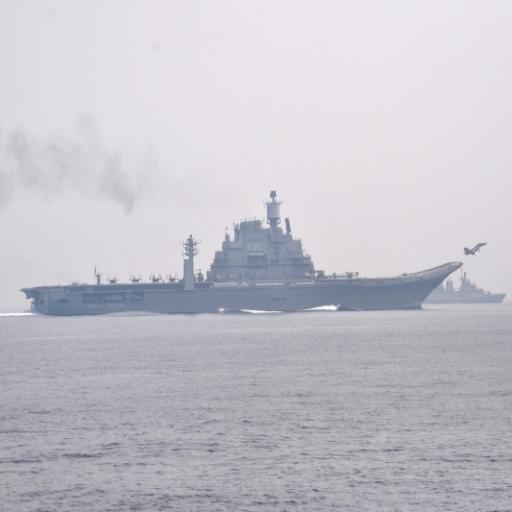Portanaves: (17, 180, 469, 324)
